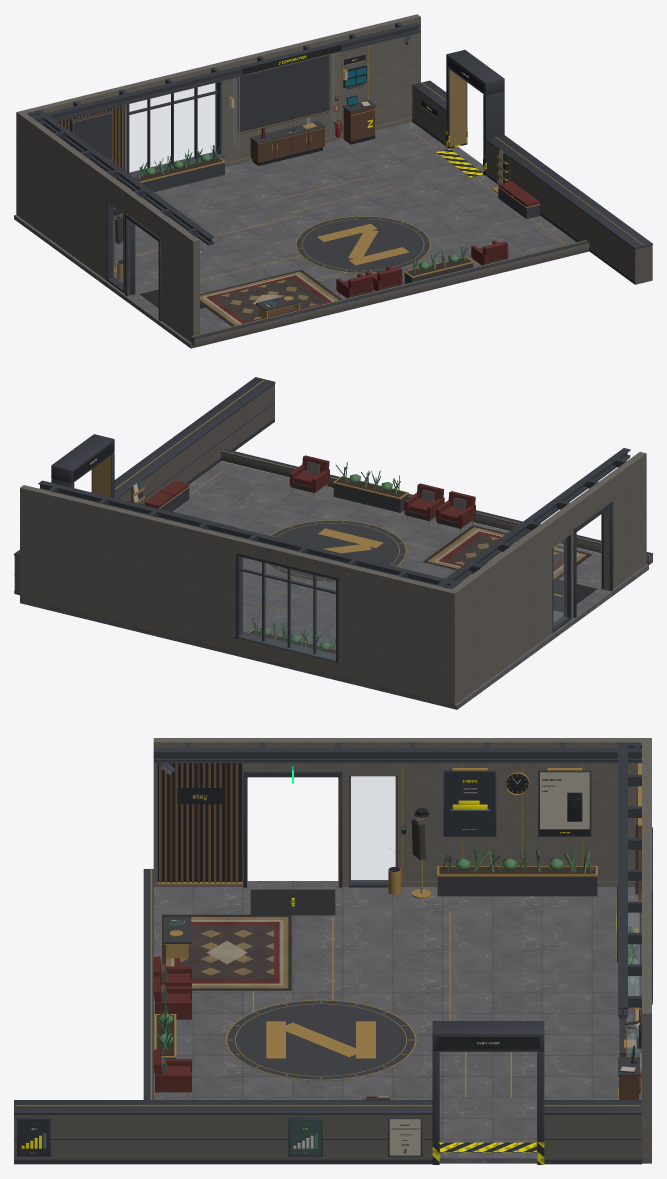
Rendered from room_lobby.glb.
3 views of the same model, one above another, from view 1: azimuth 30°, elevation 25°; view 2: azimuth 150°, elevation 25°; view 3: azimuth 270°, elevation 25° (orthographic). The views are drawn at different scales.
Visible parts, largest first — view 1: Body; view 2: Body; view 3: Body.
Boxes of the visible parts, x1,y1,x2,y2 form: Body: [14, 14, 652, 348]; Body: [14, 377, 652, 709]; Body: [14, 738, 652, 1164].
Bounding box in the file's own units: 13.49 × 3.32 × 12.82.
39 materials, 4 textured.
